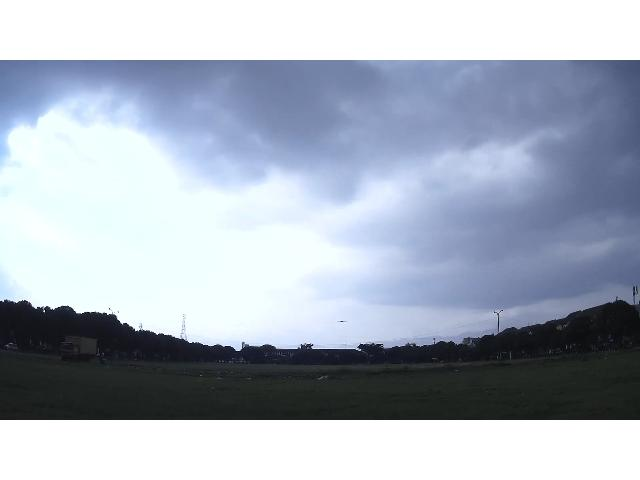Anti-Drone: (336, 320, 346, 322)
